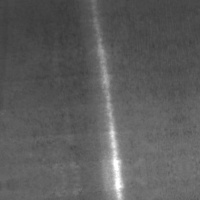scratches: (89, 0, 123, 174)
